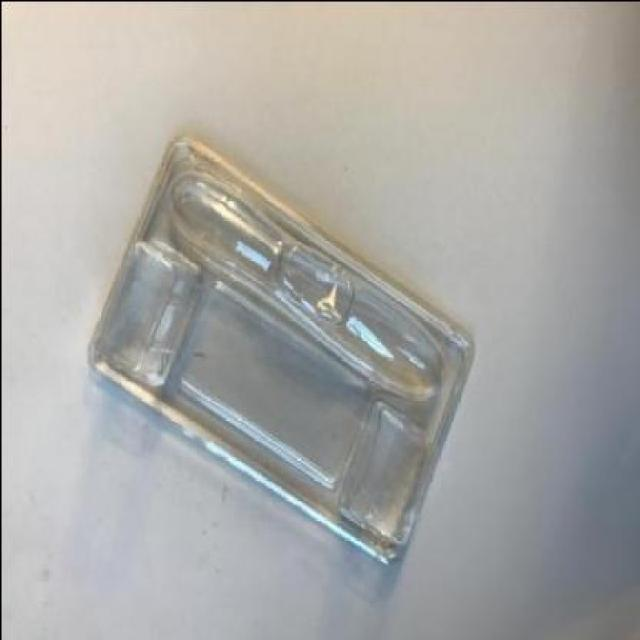PLASTIC: (86, 136, 472, 566)
